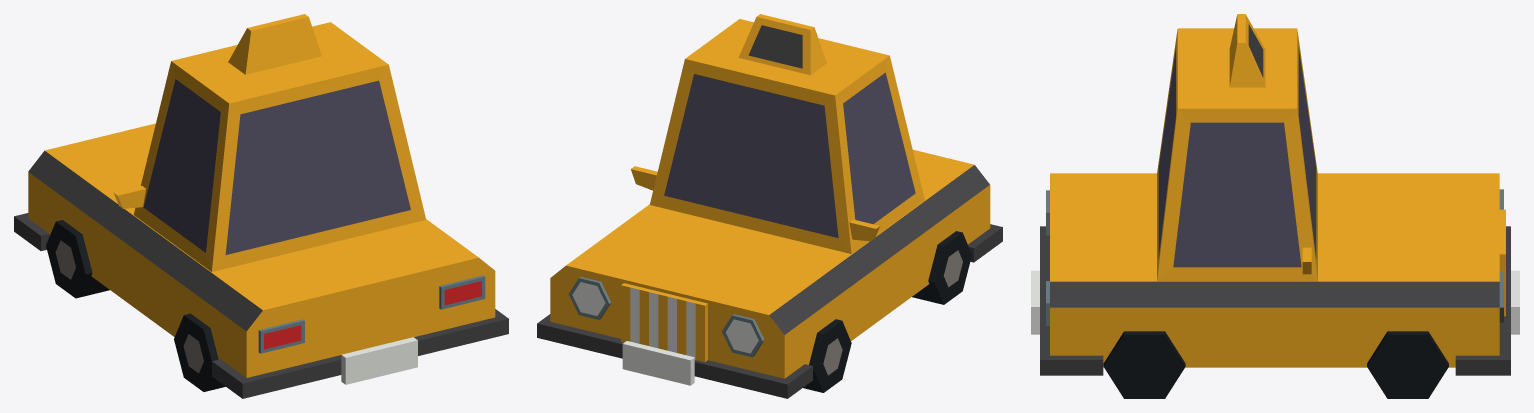
Rendered from taxi.FBX.
3 renders of one model, left to right at view 1: azimuth 30°, elevation 25°; view 2: azimuth 150°, elevation 25°; view 3: azimuth 270°, elevation 25°, orthographic. The views are drawn at different scales.
Parts seen in each view (by area): view 1: taxi; view 2: taxi; view 3: taxi.
Boxes of the visible parts, box(x1,y1,x2,y2) form: taxi: box(14, 14, 508, 398); taxi: box(537, 14, 1002, 398); taxi: box(1031, 14, 1519, 398).
Size of the model in its own units: 3.87 by 4.11 by 5.98.
